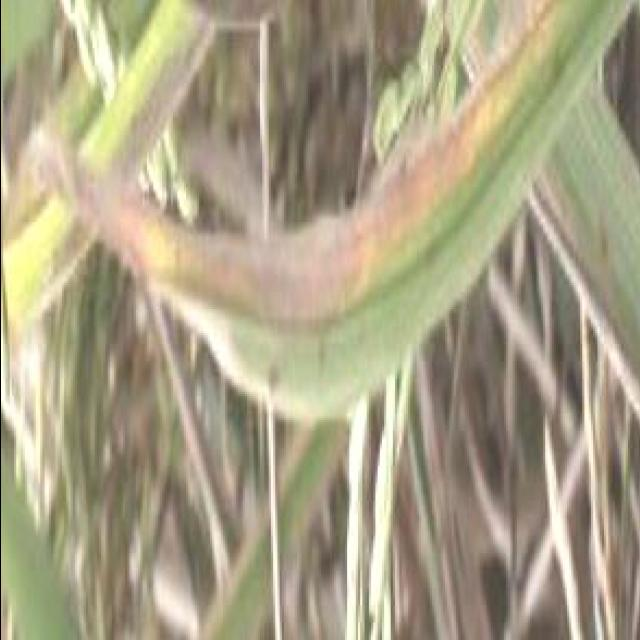Bacterial_Leaf_Blight: (155, 192, 502, 410)
